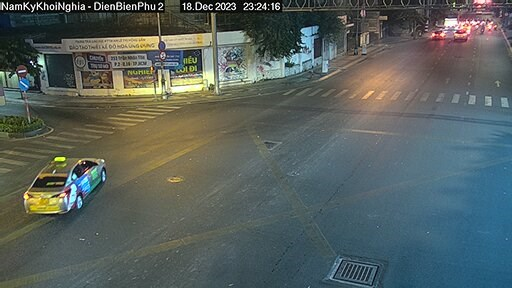car: (18, 145, 111, 216)
